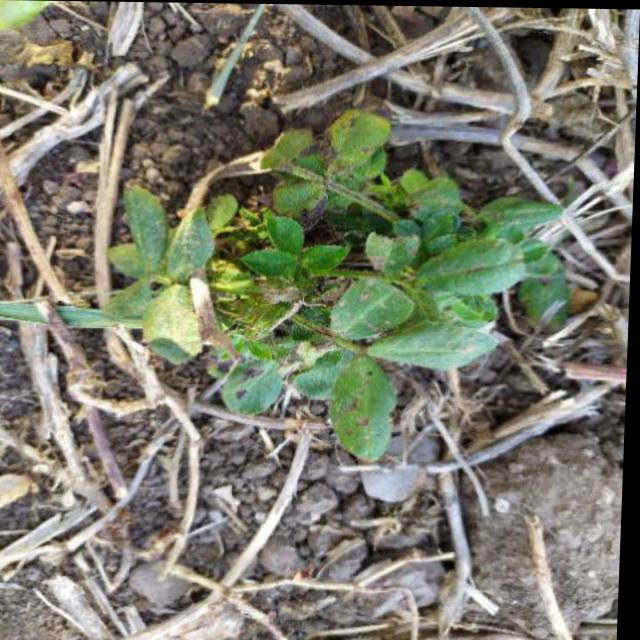weed: (113, 134, 611, 460)
